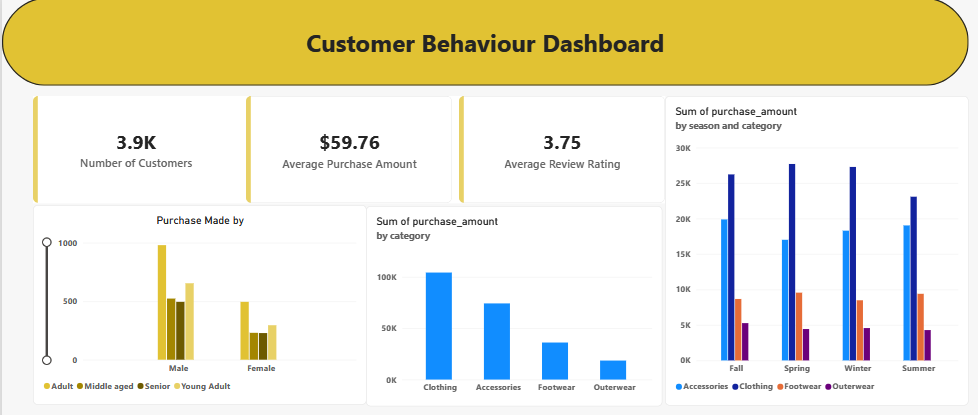

Layout of this report page (visuals, bound fields, positions):
{"tool":"powerbi","page":{"name":"Page 1","canvas":[1920,1080],"ordinal":0},"visuals":[{"type":"cardVisual","fields":{"Data":["csb customer.Number of Customers","csb customer.Average Purchase Amount","csb customer.Average Review Rating"]},"box":[51.4,162.9,1054.3,178.6],"z":0},{"type":"shape","box":[0,0,1611.1,146.3],"z":1000},{"type":"clusteredColumnChart","title":"Purchase Made by ","fields":{"Category":["csb customer.gender"],"Series":["csb customer.age_group"],"Y":["csb customer.Who purchases the product often"]},"box":[51.4,345.7,555.7,332.9],"z":2000},{"type":"clusteredColumnChart","fields":{"Category":["csb customer.category"],"Y":["Sum(csb customer.purchase_amount)"]},"box":[607.1,347.1,494.3,334.3],"z":3001},{"type":"clusteredColumnChart","fields":{"Category":["csb customer.season"],"Series":["csb customer.category"],"Y":["Sum(csb customer.purchase_amount)"]},"box":[1105.7,162.9,505.7,515.7],"z":3002}]}

Visuals, with their boxes on the page's 1920x1080 design canvas (x1, y1, x2, y2). These are canvas units, not pixel positions in the 978x415 screenshot, which may show the page scaled, cropped or inside an application window:
cardVisual - csb customer.Number of Customers x csb customer.Average Purchase Amount: [left=51, top=163, right=1106, bottom=342]
shape: [left=0, top=0, right=1611, bottom=146]
"Purchase Made by " clusteredColumnChart: [left=51, top=346, right=607, bottom=679]
clusteredColumnChart - csb customer.category x Sum(csb customer.purchase_amount): [left=607, top=347, right=1101, bottom=681]
clusteredColumnChart - csb customer.season x csb customer.category: [left=1106, top=163, right=1611, bottom=679]
